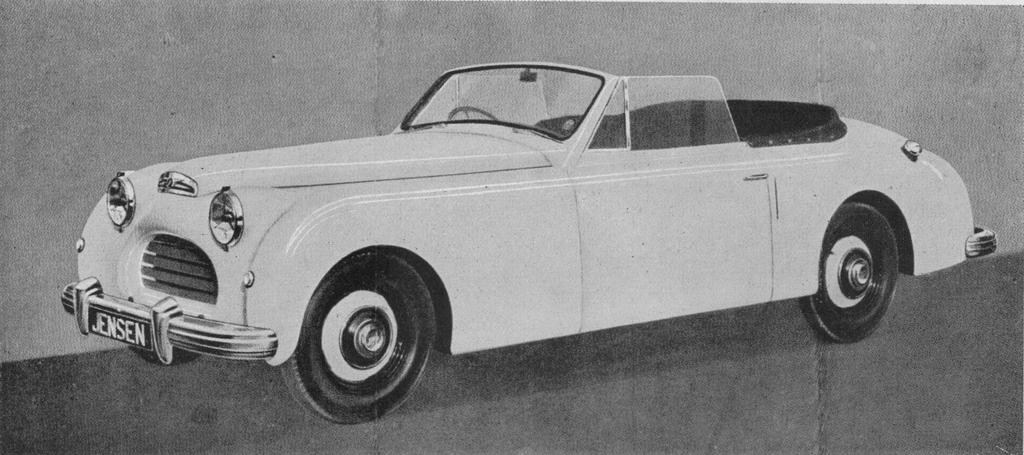Car: (58, 56, 995, 431)
